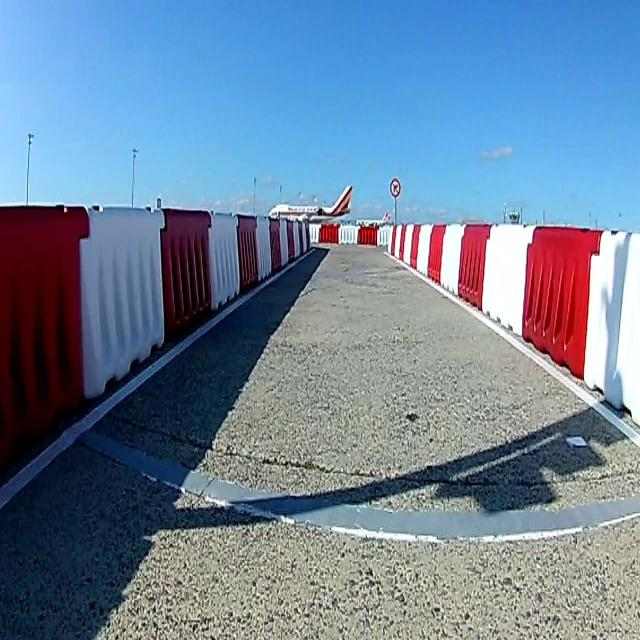sagadonulmez: (390, 178, 400, 198)
